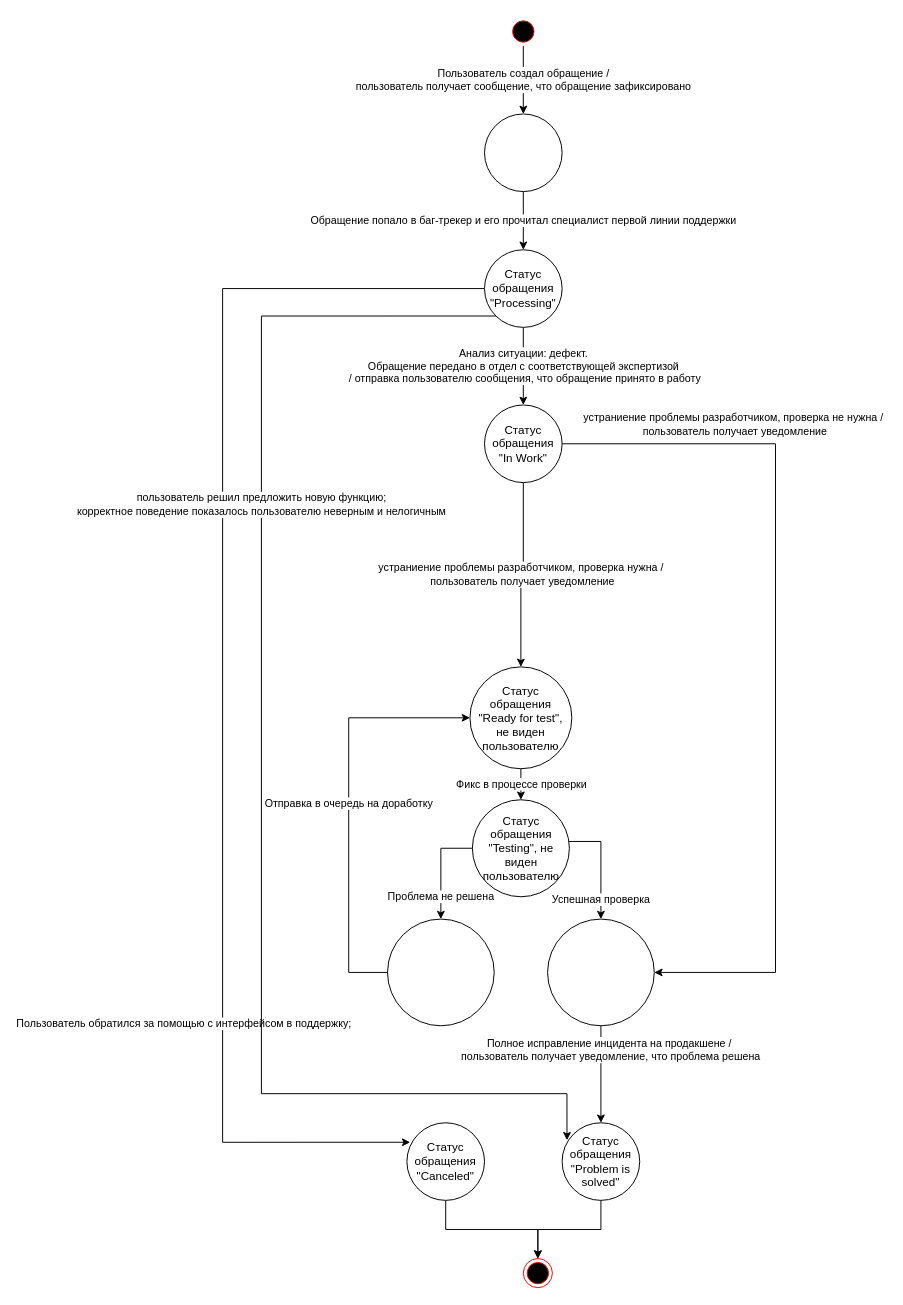
Image size: 903x1305. Some labels were removed from this diagram. The shapes that lost their labels are listed below. From the top down, each one's centre as x and y in pixels, then its label:
(x=523, y=152): Статус обращения "New"
(x=440, y=972): Статус обращения "Need fixing" , не виден пользователю
(x=600, y=972): Статус обращения "Ready for release" , не виден пользователю
